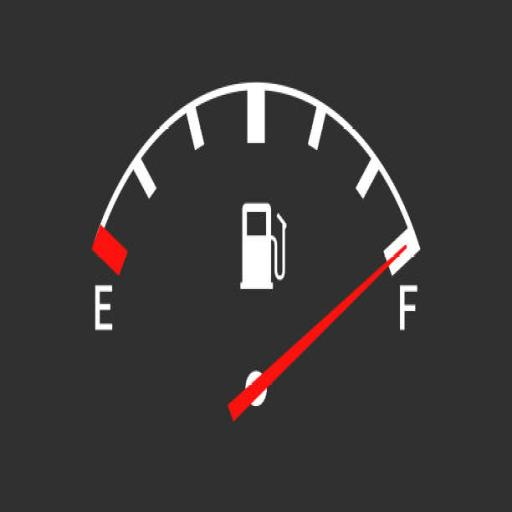empty: (92, 281, 115, 337)
fuel_icon: (240, 197, 287, 291)
full: (397, 283, 420, 333)
guage_area: (88, 82, 424, 436)
needle_center: (242, 367, 270, 422)
needle_tip: (384, 238, 412, 272)
